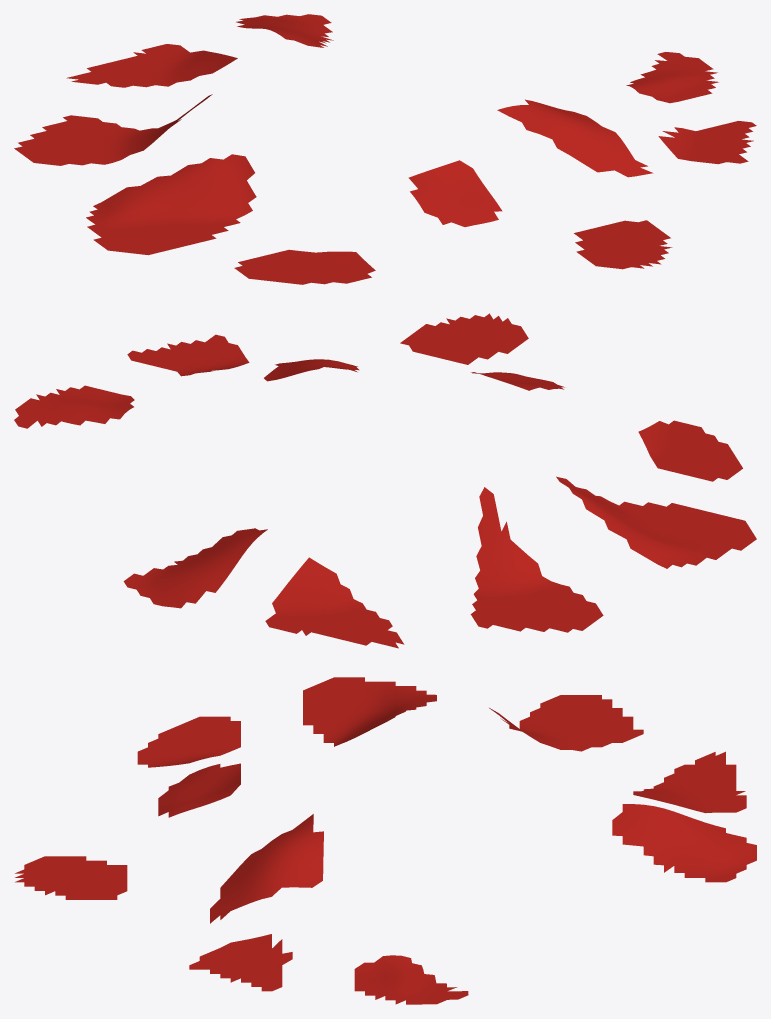
The model's file is state_red.glb.
The picture shows the model from 3 angles, top to bottom: view 1: azimuth 30°, elevation 25°; view 2: azimuth 150°, elevation 25°; view 3: azimuth 270°, elevation 25°; orthographic projection. The views are drawn at different scales.
Visible parts, largest first — view 1: Oromia, Afar, SNNPR, Amhara, Gambella, Dire-Dawa, Harari, Somali, Tigray, Benishangul-Gumuz; view 2: Afar, Oromia, Amhara, Benishangul-Gumuz, Dire-Dawa, Harari, Somali, Tigray, SNNPR, Gambella; view 3: Benishangul-Gumuz, Oromia, SNNPR, Afar, Amhara, Harari, Dire-Dawa, Somali, Tigray, Gambella.
Part boxes in pixels (x1,y1,x2,y2): Oromia: [86, 154, 256, 255]; Afar: [14, 94, 212, 165]; SNNPR: [497, 99, 653, 177]; Amhara: [66, 44, 237, 87]; Gambella: [408, 160, 502, 226]; Dire-Dawa: [234, 249, 375, 284]; Harari: [574, 220, 672, 269]; Somali: [626, 52, 718, 103]; Tigray: [658, 121, 756, 164]; Benishangul-Gumuz: [236, 14, 333, 47]; Afar: [470, 487, 603, 632]; Oromia: [556, 476, 756, 568]; Amhara: [265, 557, 404, 648]; Benishangul-Gumuz: [123, 528, 267, 608]; Dire-Dawa: [638, 420, 742, 481]; Harari: [400, 313, 528, 364]; Somali: [14, 385, 134, 428]; Tigray: [127, 334, 249, 376]; SNNPR: [264, 359, 359, 381]; Gambella: [471, 372, 564, 390]; Benishangul-Gumuz: [612, 804, 756, 882]; Oromia: [303, 677, 436, 746]; SNNPR: [210, 814, 323, 923]; Afar: [489, 695, 643, 751]; Amhara: [633, 751, 746, 813]; Harari: [15, 856, 127, 899]; Dire-Dawa: [137, 716, 240, 767]; Somali: [354, 955, 468, 1004]; Tigray: [189, 934, 292, 991]; Gambella: [158, 763, 240, 817].
Bounding box in the file's own units: 20.08 × 1.79 × 19.27.
